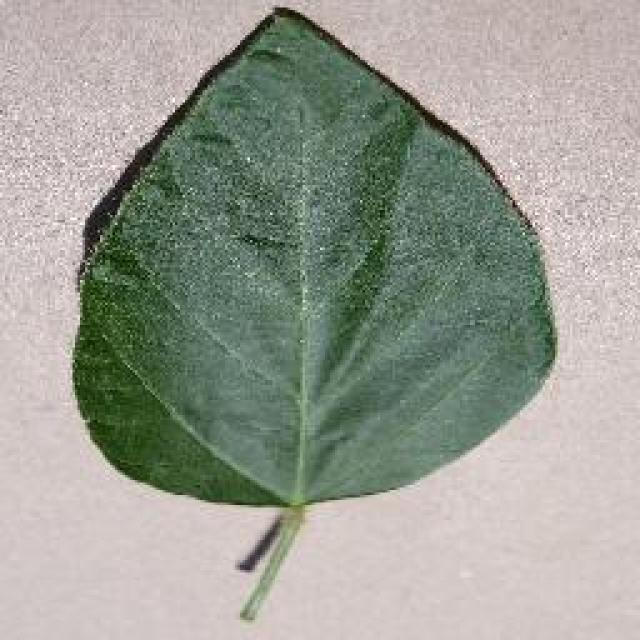Soy_healthy: (71, 50, 550, 485)
